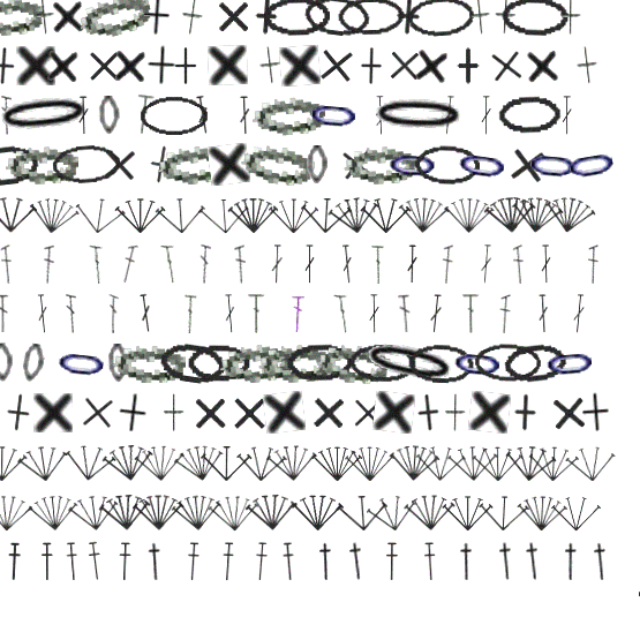chain: (360, 338, 450, 388), (44, 126, 132, 169), (115, 37, 184, 86), (370, 130, 456, 166), (185, 170, 251, 211), (258, 170, 324, 211), (239, 342, 305, 383), (24, 42, 89, 81), (312, 41, 373, 82), (186, 342, 247, 383), (268, 129, 333, 167), (324, 344, 389, 382), (26, 171, 86, 211), (348, 172, 412, 209), (274, 344, 338, 381), (485, 343, 544, 383), (402, 43, 463, 81), (94, 172, 155, 209), (55, 173, 118, 208), (342, 44, 402, 80), (352, 345, 412, 381), (148, 346, 211, 380), (537, 170, 589, 211), (403, 345, 461, 381), (484, 44, 543, 79), (461, 345, 520, 380), (171, 131, 231, 165), (443, 171, 494, 211), (278, 44, 336, 79), (298, 345, 356, 380), (481, 130, 538, 165), (409, 173, 466, 208), (212, 346, 268, 380), (96, 344, 146, 382), (505, 172, 554, 210), (440, 344, 489, 382), (315, 129, 364, 166), (520, 344, 569, 381), (384, 173, 432, 208), (67, 345, 90, 381), (42, 345, 62, 380), (135, 131, 154, 165), (143, 346, 162, 380), (316, 174, 334, 208)
double: (166, 130, 184, 165), (218, 130, 234, 165), (154, 259, 170, 294), (189, 259, 205, 294), (339, 302, 355, 337), (169, 302, 184, 337), (265, 303, 280, 337), (451, 303, 466, 337), (432, 131, 446, 165), (127, 260, 141, 294), (344, 260, 358, 294), (80, 303, 94, 337), (207, 303, 221, 337), (421, 303, 435, 337), (545, 303, 559, 337), (465, 260, 478, 294), (243, 303, 256, 337), (395, 303, 408, 337), (256, 131, 268, 165), (50, 260, 62, 294), (221, 260, 233, 294), (284, 260, 296, 294), (371, 260, 383, 294), (494, 260, 506, 294), (302, 303, 314, 337), (515, 303, 527, 337), (117, 131, 128, 165), (466, 131, 477, 165), (536, 131, 547, 165), (253, 260, 264, 294), (313, 260, 324, 294), (402, 260, 413, 294), (518, 260, 529, 294), (47, 303, 58, 337), (369, 303, 380, 337), (50, 131, 60, 165), (87, 260, 97, 294), (433, 260, 443, 294), (143, 303, 153, 337), (483, 303, 493, 337), (560, 260, 569, 294), (107, 303, 116, 337)
fan: (519, 213, 569, 254), (198, 428, 248, 469), (365, 472, 415, 512), (72, 214, 121, 254), (112, 214, 161, 254), (333, 214, 382, 254), (63, 429, 112, 469), (137, 429, 186, 468), (107, 472, 156, 511), (492, 214, 540, 253), (104, 429, 152, 468), (486, 430, 534, 468), (539, 430, 586, 468), (394, 215, 441, 252), (469, 215, 516, 252), (165, 430, 212, 467), (280, 430, 327, 467), (386, 430, 433, 467), (73, 473, 120, 510), (135, 473, 182, 510), (197, 473, 244, 510), (262, 473, 309, 510), (183, 216, 230, 252), (221, 216, 268, 252), (33, 474, 80, 510), (229, 474, 276, 510), (341, 474, 388, 510), (310, 216, 356, 252), (254, 431, 300, 467), (507, 431, 553, 467), (464, 474, 510, 510), (497, 474, 543, 510), (434, 216, 480, 251), (409, 431, 455, 466), (437, 431, 483, 466), (400, 474, 446, 509), (37, 216, 82, 251), (165, 474, 210, 509), (149, 217, 194, 251), (247, 217, 292, 251), (282, 217, 327, 251), (362, 217, 407, 251), (29, 432, 74, 466), (224, 432, 269, 466), (320, 432, 365, 466), (348, 432, 393, 466), (459, 432, 504, 466), (303, 475, 348, 509), (433, 475, 478, 509), (527, 475, 572, 509)
half_double: (349, 517, 370, 552), (502, 517, 523, 552), (479, 517, 499, 552), (535, 518, 555, 552), (561, 518, 581, 552), (175, 518, 194, 552), (323, 518, 342, 552), (445, 518, 464, 552), (124, 517, 141, 552), (105, 518, 120, 552), (210, 518, 225, 552), (240, 518, 255, 552), (269, 518, 284, 552), (293, 518, 308, 552), (55, 518, 69, 552), (151, 518, 165, 552), (416, 518, 430, 552), (84, 518, 97, 552), (383, 518, 396, 552)
noise: (0, 513, 18, 541), (601, 552, 623, 574), (5, 580, 21, 596)
single: (170, 171, 209, 210), (470, 86, 508, 124), (488, 172, 526, 210), (323, 86, 360, 123), (230, 172, 267, 209), (341, 172, 378, 209), (47, 387, 84, 424), (116, 387, 153, 424), (278, 387, 315, 424), (373, 387, 410, 424), (403, 387, 440, 424), (456, 387, 493, 424), (263, 44, 299, 80), (386, 44, 422, 80), (35, 87, 71, 123), (292, 87, 328, 123), (525, 388, 561, 424), (407, 86, 442, 123), (230, 87, 265, 122), (383, 87, 418, 122), (136, 173, 171, 208), (317, 388, 352, 423), (488, 388, 523, 423), (235, 45, 269, 79), (64, 88, 98, 122), (123, 88, 157, 122), (194, 88, 228, 122), (355, 88, 389, 122), (439, 88, 473, 122), (79, 389, 113, 423), (215, 389, 249, 423), (249, 389, 283, 423), (352, 389, 386, 423), (88, 87, 121, 122), (504, 87, 537, 122), (93, 44, 125, 79), (147, 87, 179, 122), (150, 388, 179, 424), (171, 44, 199, 79), (552, 388, 580, 423), (176, 87, 203, 122), (206, 44, 228, 80), (78, 44, 99, 79), (456, 44, 477, 79), (274, 87, 295, 122), (549, 87, 570, 122), (479, 44, 498, 79), (536, 45, 554, 79), (192, 389, 210, 423), (436, 389, 454, 423)
treble: (374, 131, 386, 165)
